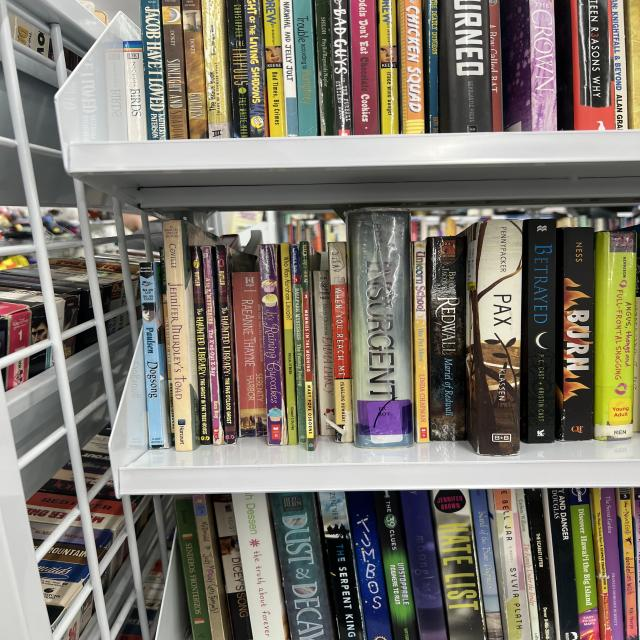book: (348, 209, 413, 448), (464, 221, 522, 455), (269, 488, 336, 640), (427, 486, 490, 640), (592, 230, 636, 440), (162, 220, 201, 451), (231, 489, 290, 640), (425, 237, 466, 440), (555, 228, 594, 440), (585, 488, 638, 640), (520, 220, 556, 443), (399, 488, 448, 640), (317, 489, 366, 640), (437, 0, 493, 132), (501, 0, 557, 131), (346, 489, 392, 640), (373, 489, 419, 640), (487, 487, 532, 640), (258, 245, 289, 445), (138, 262, 171, 448), (231, 272, 268, 437), (212, 493, 253, 640), (191, 493, 232, 640), (570, 0, 615, 130), (211, 244, 240, 445), (542, 488, 580, 640), (172, 497, 212, 640), (523, 488, 559, 640), (468, 488, 504, 640), (328, 242, 354, 442), (568, 487, 601, 640), (394, 0, 429, 134), (598, 487, 628, 640), (311, 270, 337, 439), (202, 246, 224, 445), (201, 0, 232, 139), (514, 488, 542, 640), (349, 0, 380, 135), (191, 247, 212, 444), (139, 0, 168, 140), (411, 241, 431, 442), (528, 0, 558, 131), (181, 0, 209, 139), (161, 0, 189, 139), (224, 0, 252, 138), (279, 243, 298, 444), (588, 488, 613, 640), (293, 0, 319, 137), (243, 0, 268, 138), (328, 0, 353, 136), (158, 246, 175, 445), (290, 245, 307, 443), (299, 241, 315, 450), (263, 0, 287, 137), (377, 0, 400, 134), (554, 1, 576, 130), (280, 0, 299, 136), (315, 0, 334, 135), (123, 40, 148, 141), (104, 42, 128, 141), (489, 0, 504, 131), (624, 0, 639, 128), (424, 0, 438, 133), (631, 488, 639, 610), (634, 228, 639, 398)
